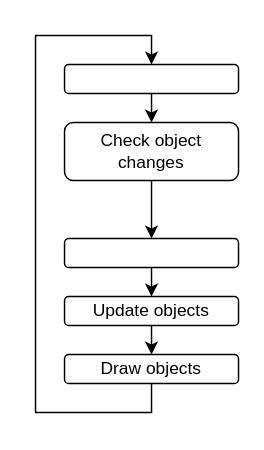
Some shapes in this 264 by 450 pixel diagram are drawn without their labels. The shapes that lost their labels are listed below. From the top down, each one's centre as x and y in pixels, then its label:
At pixel 151 78: "QTimer trigger".
At pixel 151 252: "Process events".
